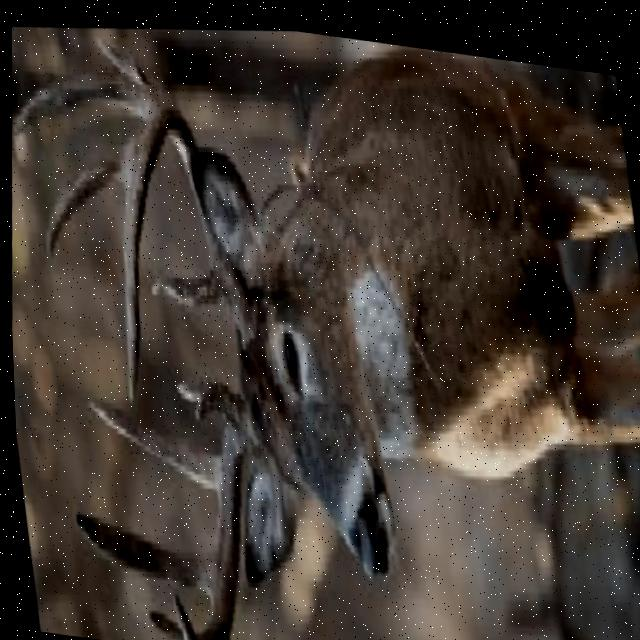L-F: (168, 386, 262, 640)
L-G1: (169, 368, 227, 411)
L-G2: (80, 393, 218, 488)
L-G3: (68, 509, 212, 595)
R-G1: (147, 258, 227, 303)
R-G3: (10, 70, 150, 141)
R-G4: (42, 146, 122, 260)
